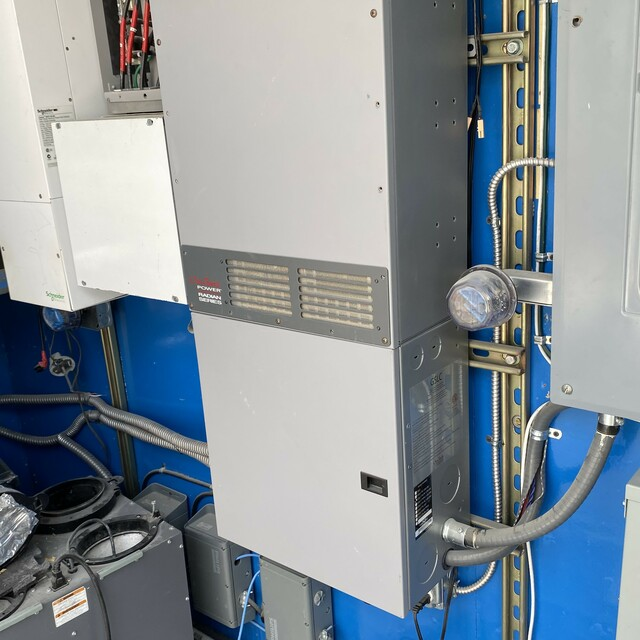inverter: (141, 1, 471, 616)
